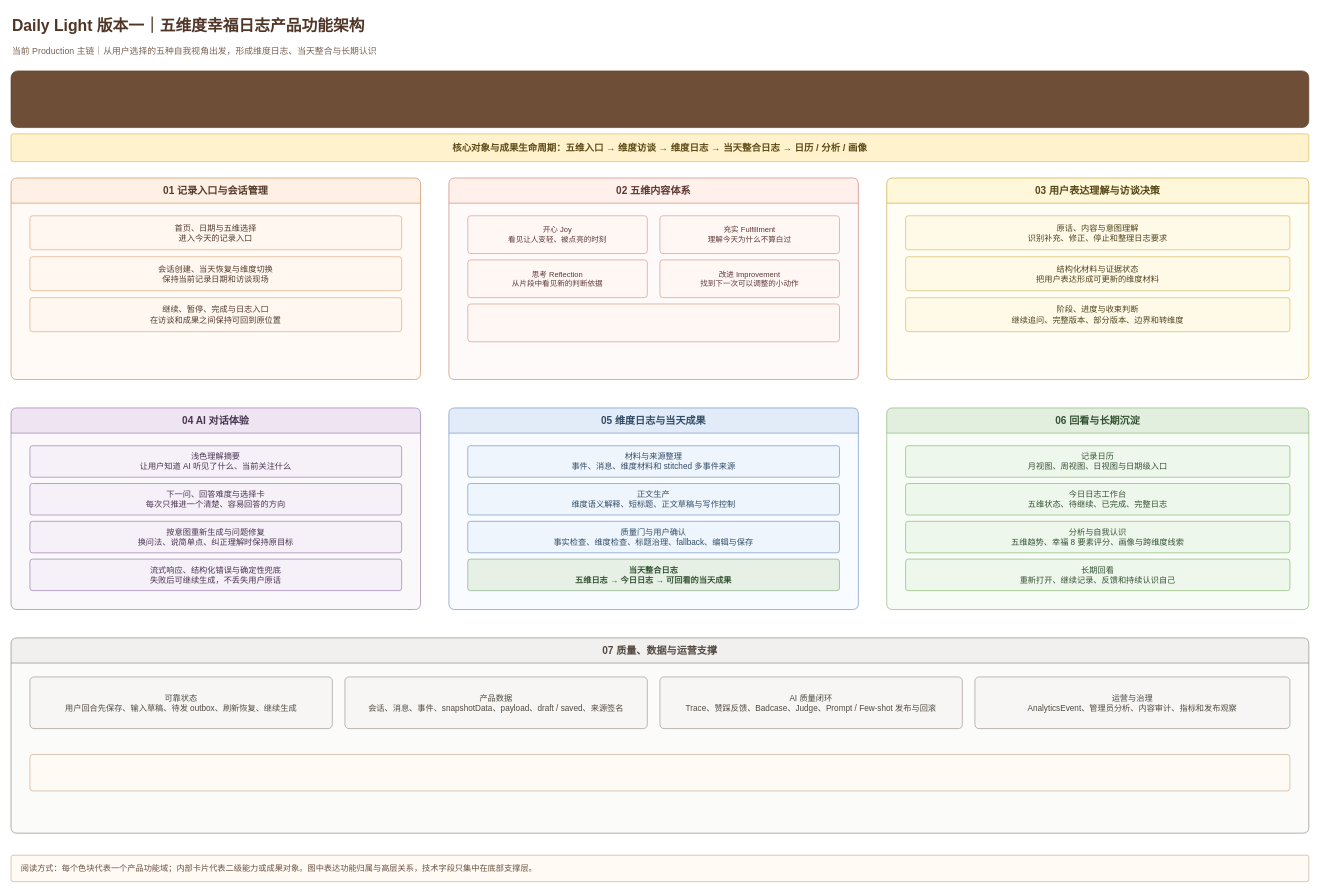
This 1320x893 diagram has some shape labels left out. The shapes that lost their labels are listed below. From the top down, each one's centre as x and y in pixels, then its label:
At point 659,99: "Daily Light｜五维度幸福日志 产品目标：让用户通过五种视角记录今天，形成可回看的自我理解 核心对象：维度会话 → 维度日志 → 当天整合日志".
At point 653,322: "感谢 Gratitude 看见谁回应了需要，哪些关系值得珍惜".
At point 659,772: "产品判断：结构化材料服务于访谈和日志质量，用户最终看到的是自然对话、日志正文、日历和分析结果。".
